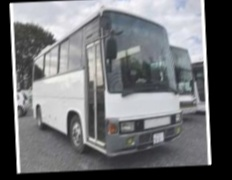bus: (27, 2, 184, 161)
